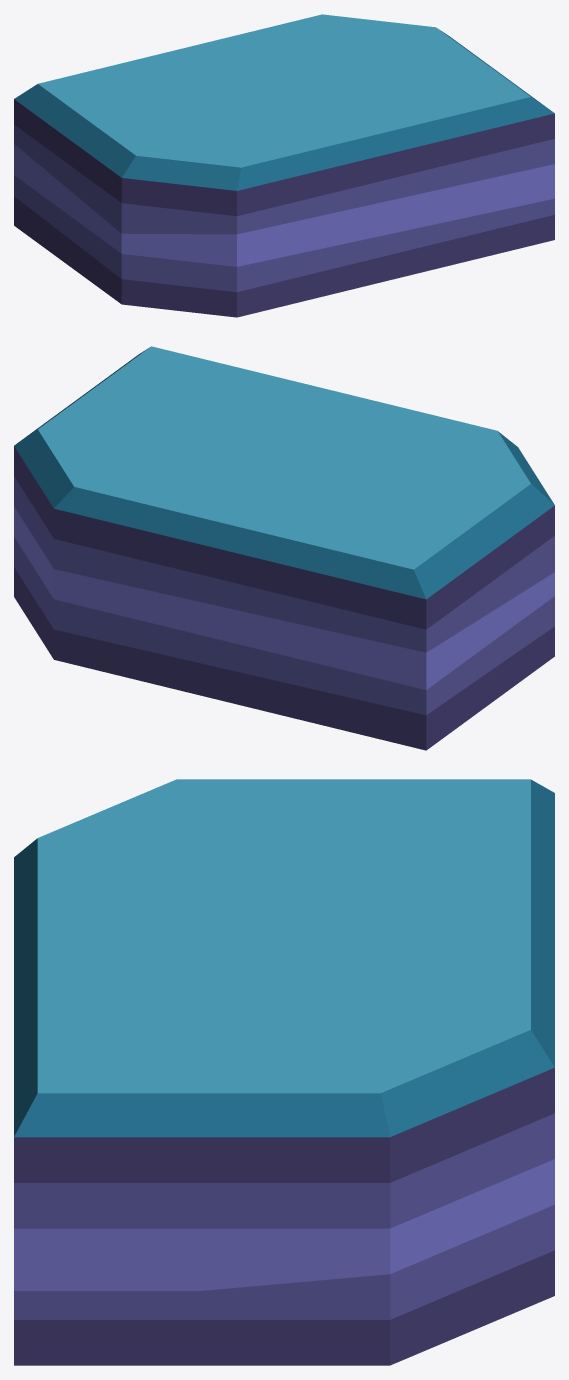
The model's file is StoneWall015.fbx.
3 renders of one model, top to bottom at view 1: azimuth 30°, elevation 25°; view 2: azimuth 150°, elevation 25°; view 3: azimuth 270°, elevation 25°, orthographic. The views are drawn at different scales.
Parts seen in each view (by area): view 1: StoneWall015; view 2: StoneWall015; view 3: StoneWall015.
Part boxes in pixels (x1,y1,x2,y2): StoneWall015: (14,14,554,317); StoneWall015: (14,346,554,750); StoneWall015: (14,779,554,1365).
Bounding box in the file's own units: 533 × 186 × 354.
